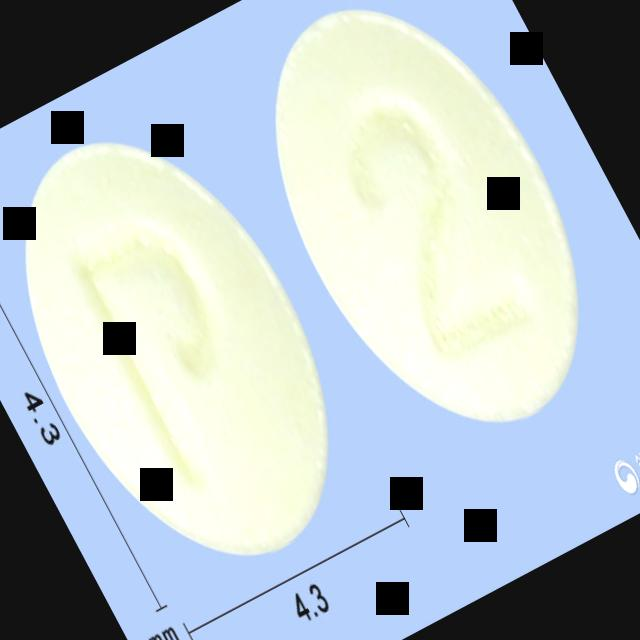Azabio - 25mg: (0, 85, 399, 613)
